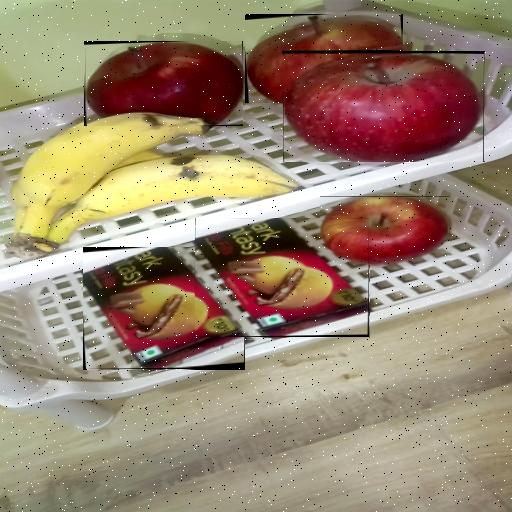Apple: (283, 53, 484, 162), (246, 15, 402, 103), (86, 42, 243, 125), (321, 196, 449, 265)
Choco Fills: (195, 218, 369, 337), (83, 247, 244, 369)
